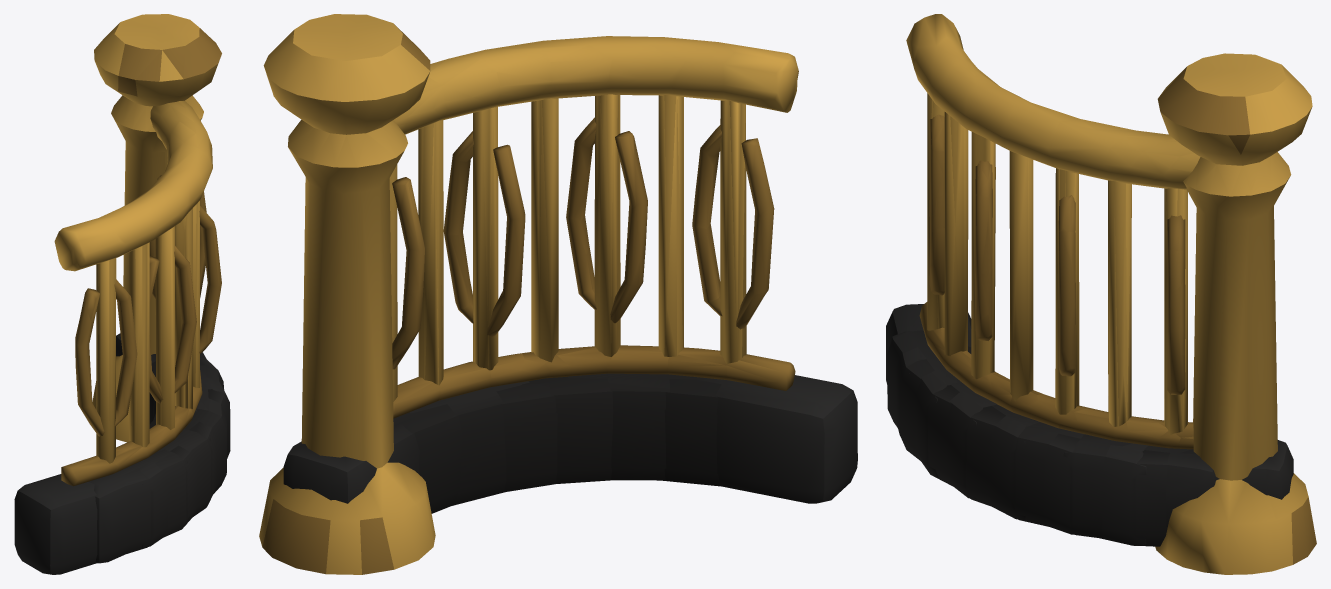
The model's file is ember_fender_end_lod1.glb.
3 views of the same model, side by side, from view 1: azimuth 30°, elevation 25°; view 2: azimuth 150°, elevation 25°; view 3: azimuth 270°, elevation 25° (orthographic). The views are drawn at different scales.
Parts seen in each view (by area): view 1: ember_fender_end.001; view 2: ember_fender_end.001; view 3: ember_fender_end.001.
Boxes of the visible parts, left/top/right/bottom form: ember_fender_end.001: left=14, top=14, right=230, bottom=574; ember_fender_end.001: left=259, top=14, right=857, bottom=574; ember_fender_end.001: left=886, top=14, right=1316, bottom=574.
Bounding box in the file's own units: 10.25 × 12.01 × 9.99.
